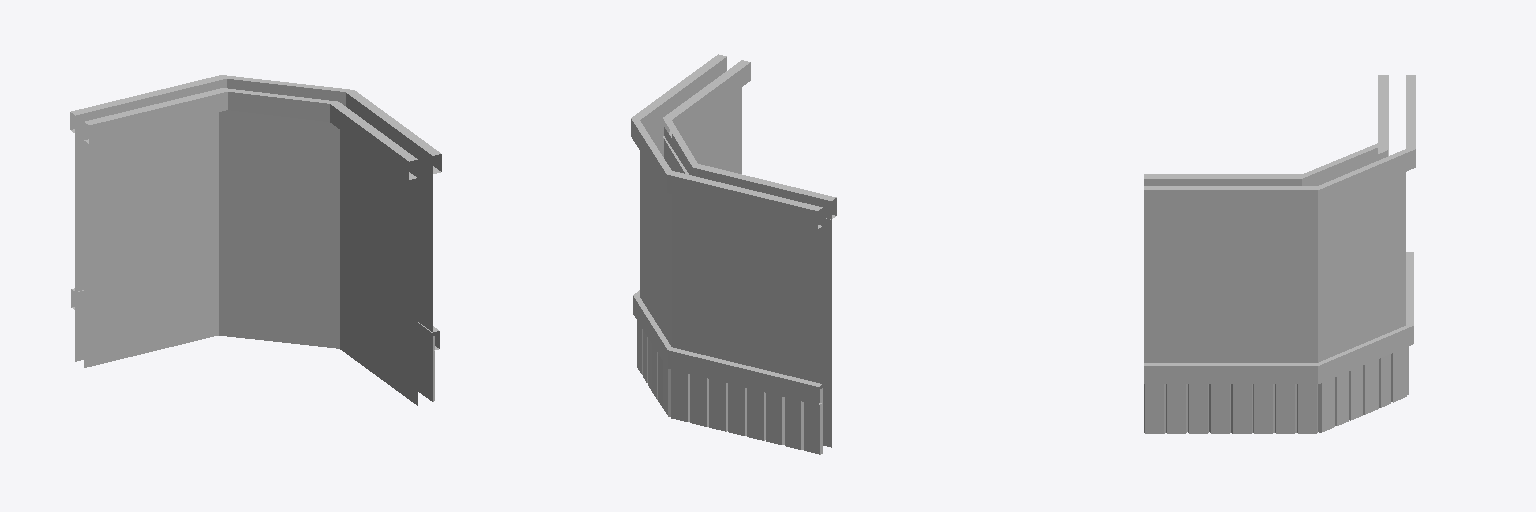
File: Overhang_WoodBrick_Corner_Front.obj
3 renders of one model, left to right at view 1: azimuth 30°, elevation 25°; view 2: azimuth 150°, elevation 25°; view 3: azimuth 270°, elevation 25°, orthographic.
Parts seen in each view (by area): view 1: Overhang_WoodBrick_Corner_Front; view 2: Overhang_WoodBrick_Corner_Front; view 3: Overhang_WoodBrick_Corner_Front.
Boxes of the visible parts, x1=… form: Overhang_WoodBrick_Corner_Front: x1=70, y1=75, x2=441, y2=405; Overhang_WoodBrick_Corner_Front: x1=631, y1=54, x2=836, y2=454; Overhang_WoodBrick_Corner_Front: x1=1144, y1=75, x2=1415, y2=433.
Size of the model in its own units: 3.12 by 3.12 by 3.12.